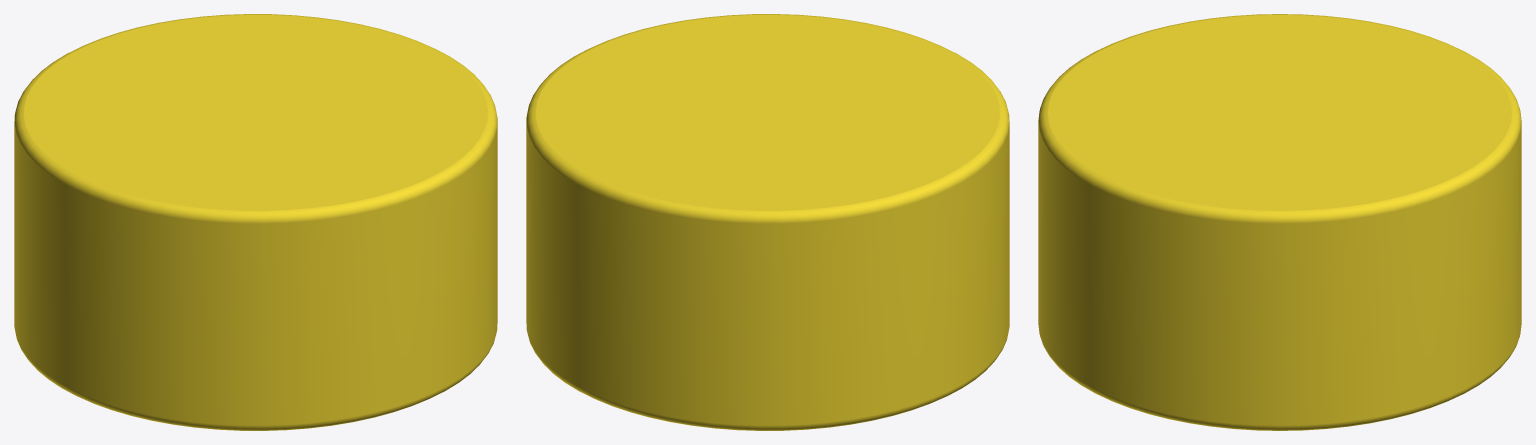
The model's file is tsumiki_yellow_normal.fbx.
The picture shows the model from 3 angles, left to right: view 1: azimuth 30°, elevation 25°; view 2: azimuth 150°, elevation 25°; view 3: azimuth 270°, elevation 25°; orthographic projection.
Parts seen in each view (by area): view 1: Tumiki_Yellow_Plain; view 2: Tumiki_Yellow_Plain; view 3: Tumiki_Yellow_Plain.
Boxes of the visible parts, x1=… form: Tumiki_Yellow_Plain: x1=14, y1=14, x2=497, y2=430; Tumiki_Yellow_Plain: x1=526, y1=14, x2=1009, y2=430; Tumiki_Yellow_Plain: x1=1038, y1=14, x2=1521, y2=430.
Size of the model in its own units: 100 by 50 by 100.
